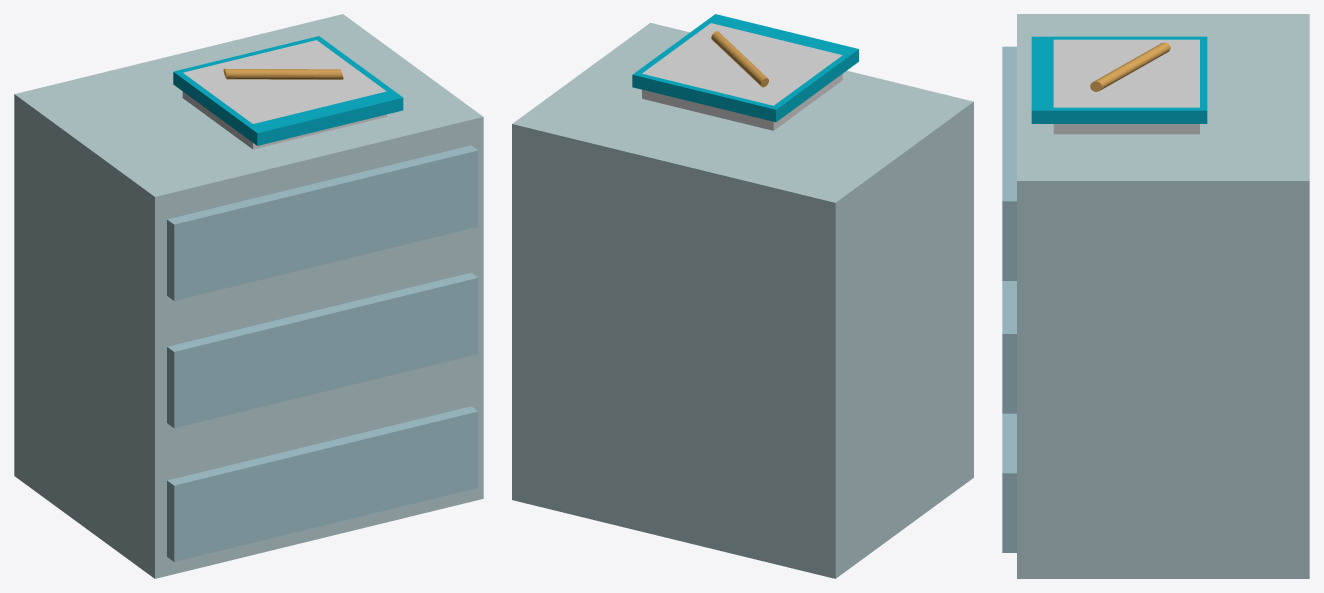
File: Powerful Hango.glb
3 views of the same model, side by side, from view 1: azimuth 30°, elevation 25°; view 2: azimuth 150°, elevation 25°; view 3: azimuth 270°, elevation 25° (orthographic). The views are drawn at different scales.
Visible parts, largest first — view 1: Mesh_Mesh_head_geo.001_lambert2SG.001; view 2: Mesh_Mesh_head_geo.001_lambert2SG.001; view 3: Mesh_Mesh_head_geo.001_lambert2SG.001.
Boxes of the visible parts, x1,y1,x2,y2 form: Mesh_Mesh_head_geo.001_lambert2SG.001: (14,14,483,578); Mesh_Mesh_head_geo.001_lambert2SG.001: (512,14,973,578); Mesh_Mesh_head_geo.001_lambert2SG.001: (1002,14,1309,578).
Bounding box in the file's own units: 54 × 67 × 42.
